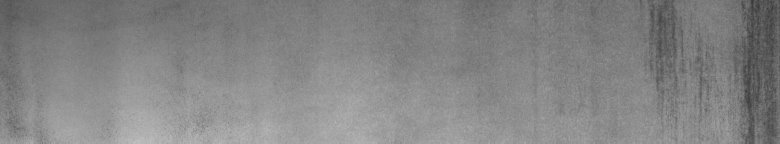ka: (644, 4, 776, 136)
